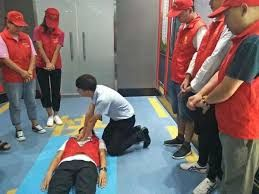fall: (31, 118, 114, 193)
